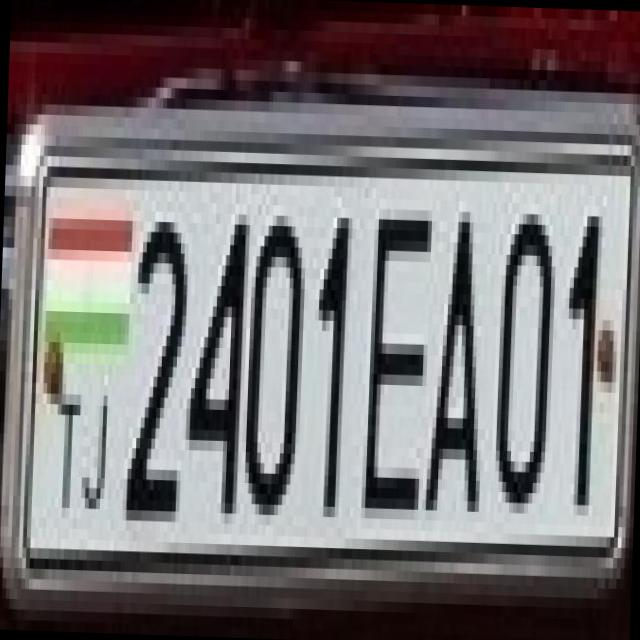0: (239, 183, 308, 516), (486, 192, 558, 504)
1: (297, 175, 361, 507), (544, 194, 606, 496)
2: (111, 189, 194, 511)
4: (175, 181, 255, 514)
A: (418, 179, 489, 501)
E: (350, 187, 432, 499)
F: (30, 258, 120, 510)
